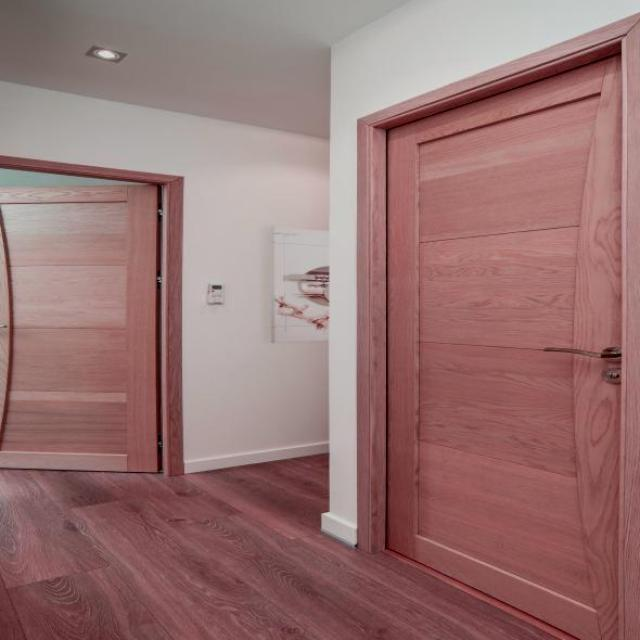door: (358, 16, 635, 638), (0, 182, 163, 478)
